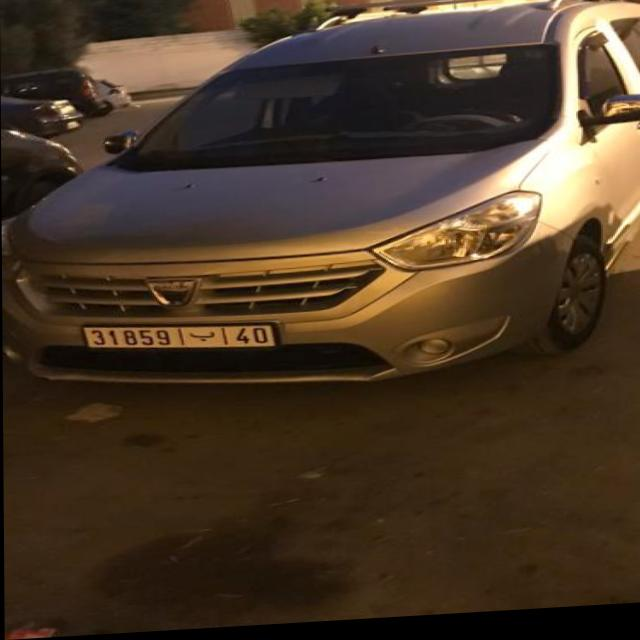License-Plate: (84, 328, 273, 349)
